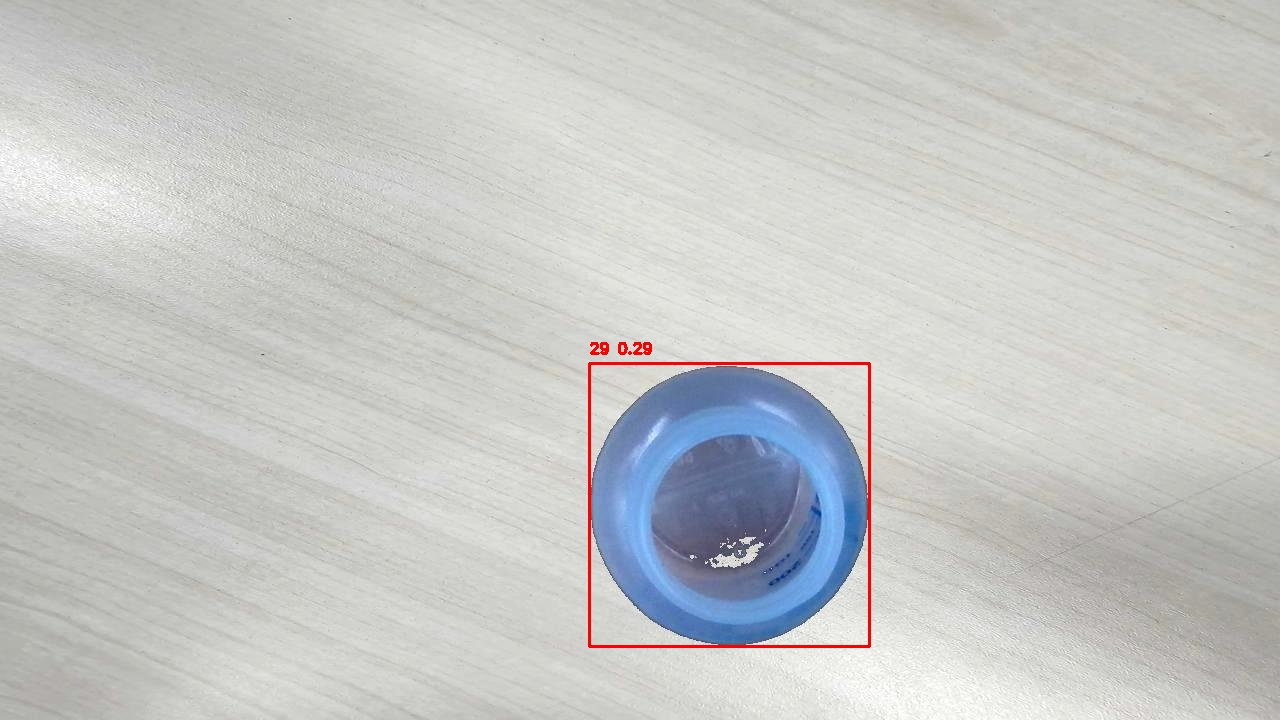cup: (589, 363, 869, 646)
